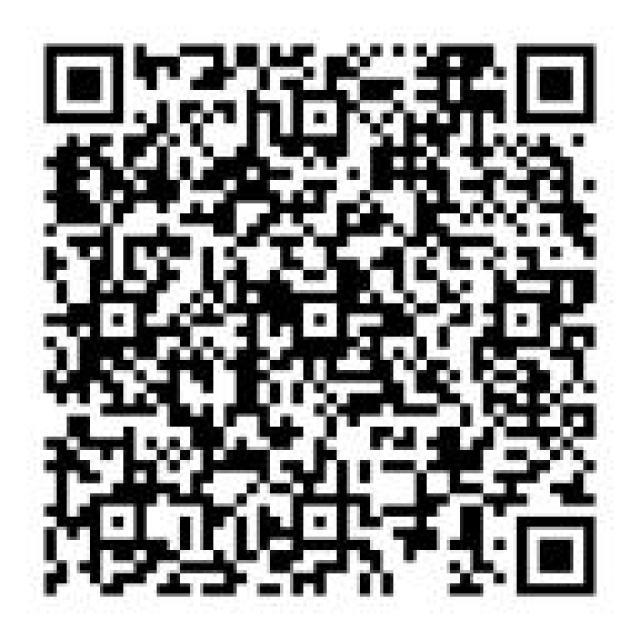qr_code: (42, 43, 597, 596)
